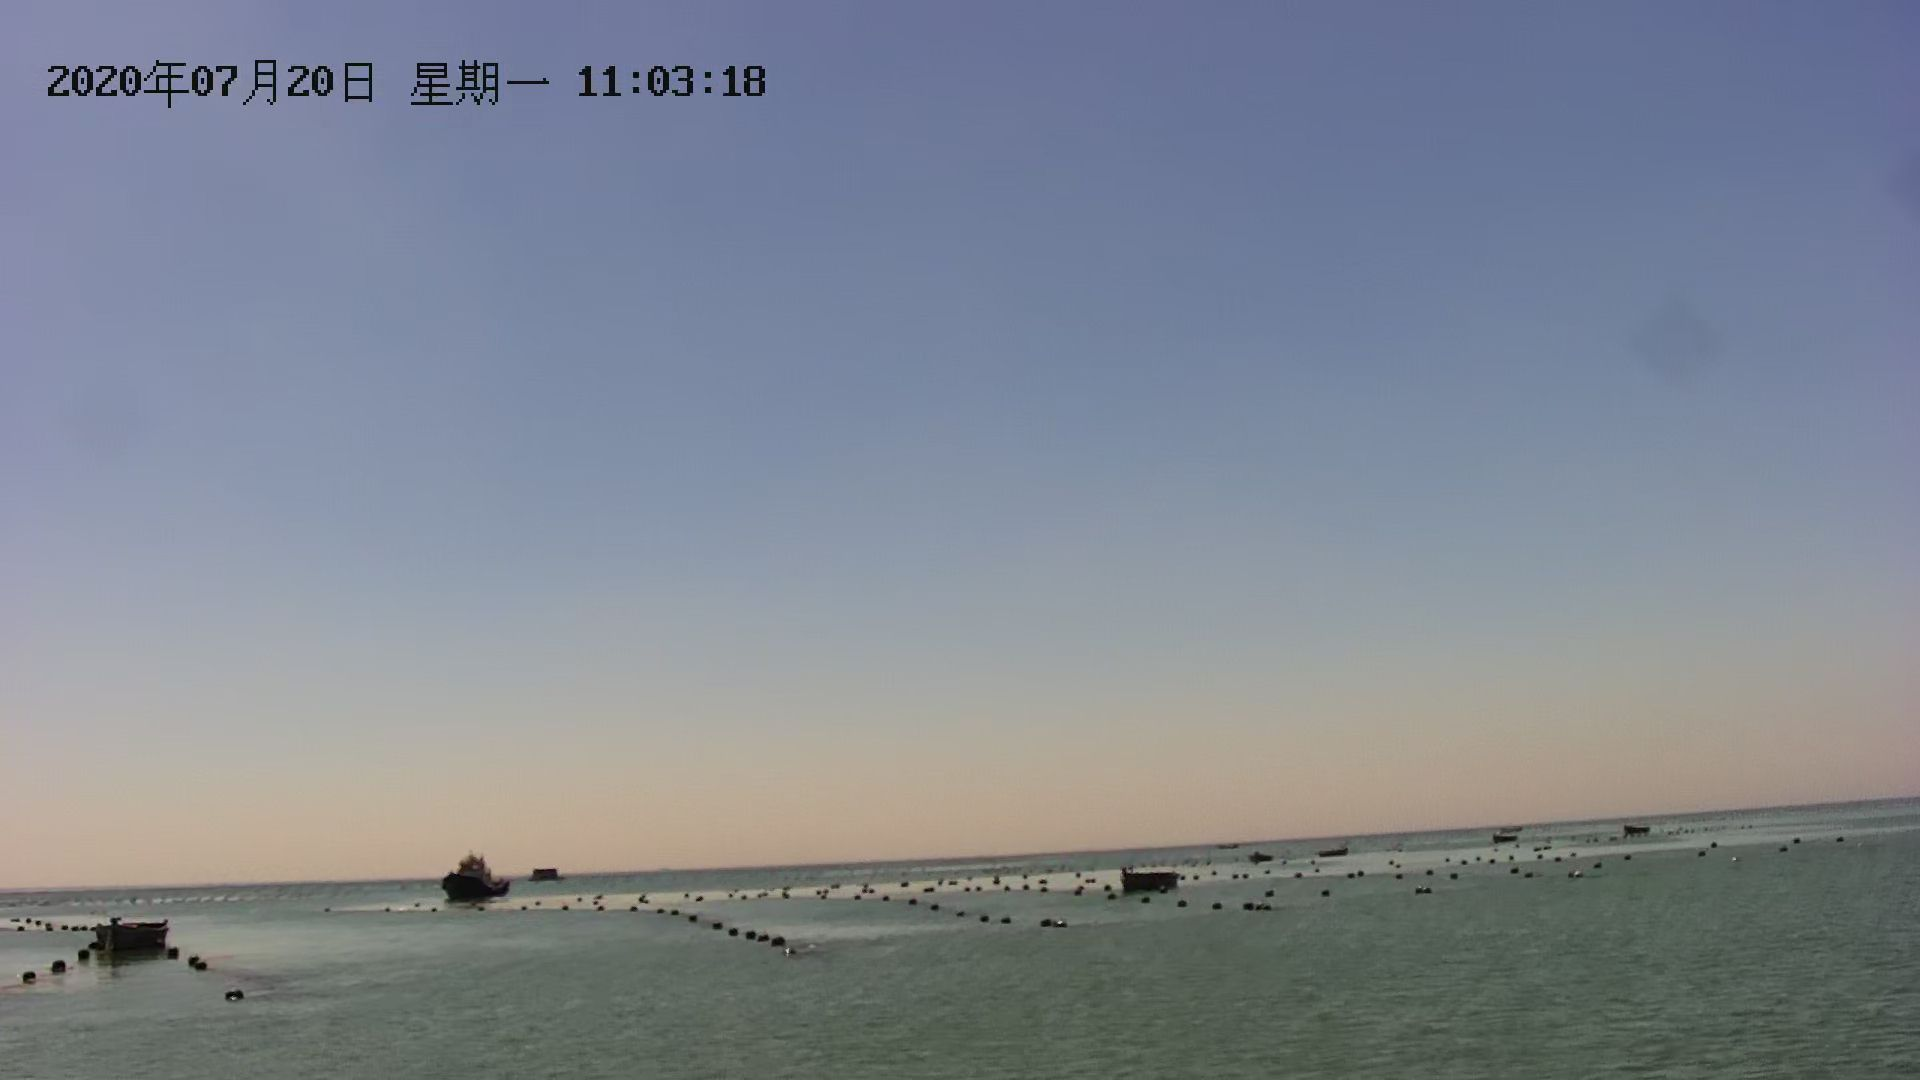ball: (216, 982, 245, 1004), (47, 957, 71, 980), (764, 934, 791, 949)
boat: (87, 903, 178, 969), (1116, 868, 1185, 894)
platform: (520, 861, 568, 885)
ship: (435, 851, 510, 903)
